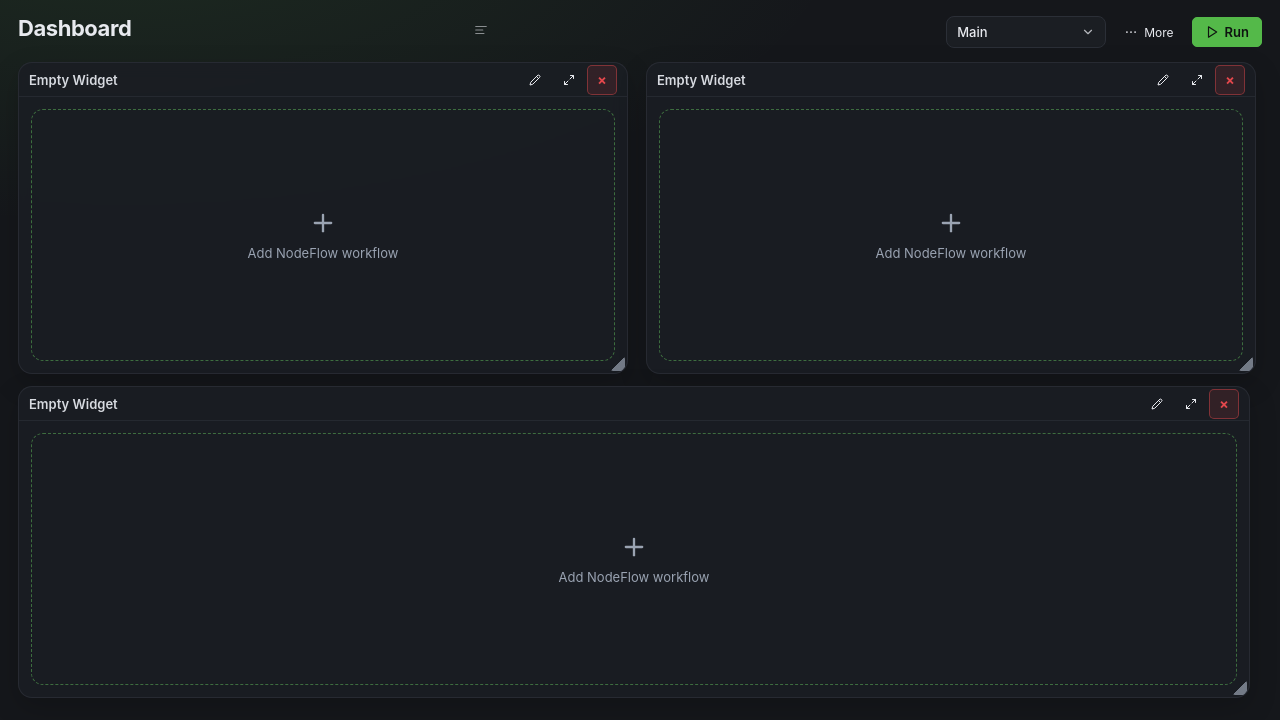
Scenario: Dashboard › renders the board with Run, board select, More menu, and page title
Expected: the button with test id "dashboard-run" is shown, [1192,17,1262,47]
Expected: the button with test id "dashboard-select" is shown, [946,16,1106,48]
Click the button with test id "dashboard-more".
click(1149, 32)  # box [1114,20,1184,44]
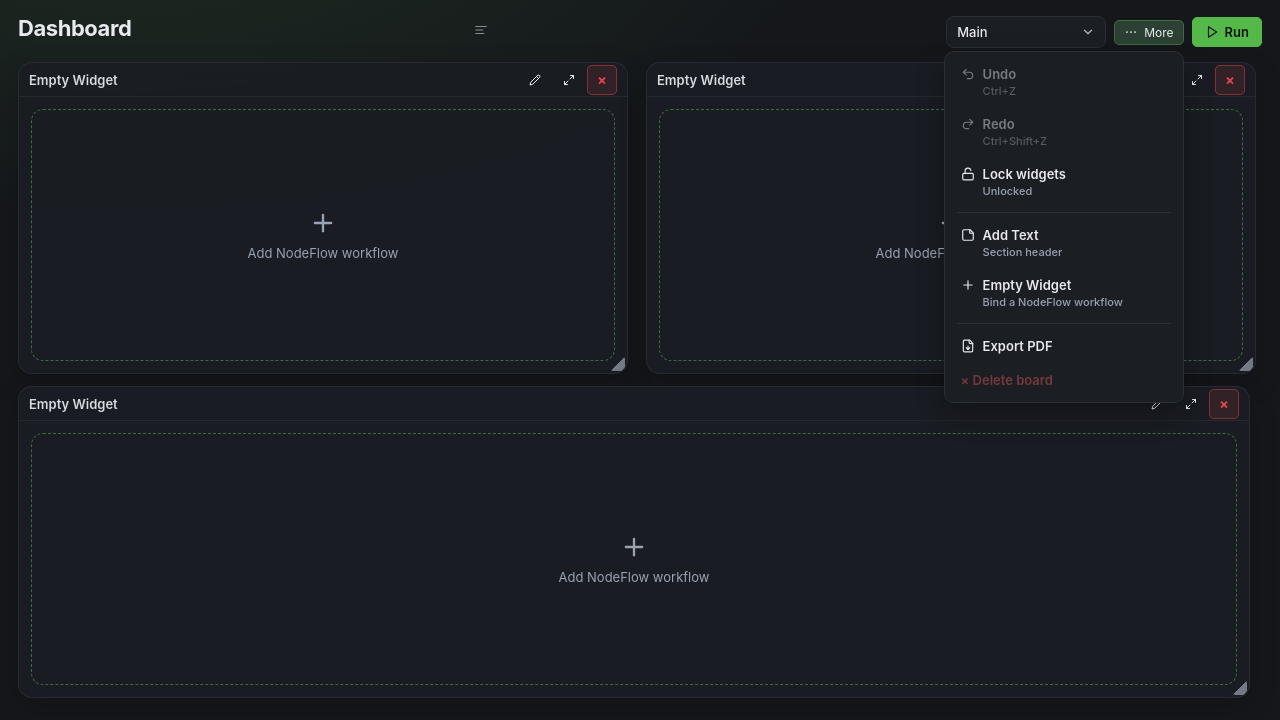
Now the menu with test id "dashboard-more-menu" is shown, box [944,50,1184,402]
Now the menu item with test id "dashboard-export-pdf" is shown, box [951,330,1177,362]
Now the menu item with test id "dashboard-add-empty" is shown, box [951,268,1177,316]
